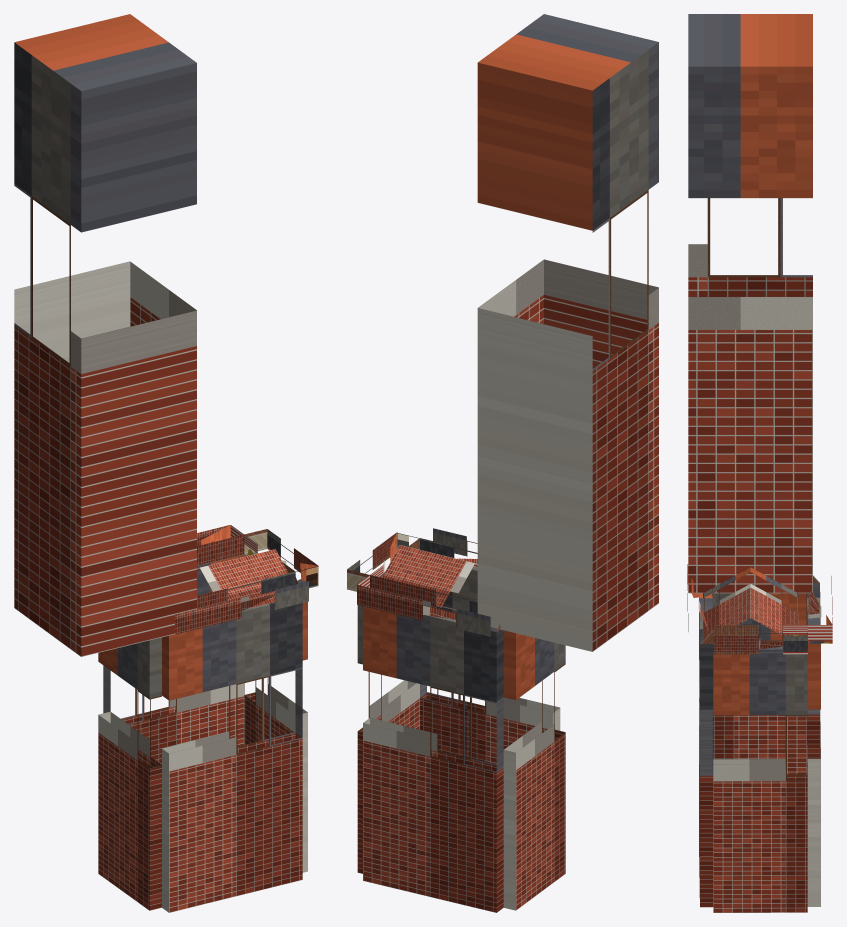
The picture shows the model from 3 angles, left to right: view 1: azimuth 30°, elevation 25°; view 2: azimuth 150°, elevation 25°; view 3: azimuth 270°, elevation 25°; orthographic projection. The views are drawn at different scales.
Visible parts, largest first — view 1: 1106965484__chimney_0_xb, 1106965484__wall_0_xb, 1106965484__wall_1_xb, 1106965484__wall_2_xb, 1106965484__wall_3_xb, 1106965484__cornice_0, 1106965484_roof_-1_xb, 1106965484__cornice_2, 1106965484__cornice_3; view 2: 1106965484__chimney_0_xb, 1106965484__wall_2_xb, 1106965484__wall_1_xb, 1106965484__wall_0_xb, 1106965484__cornice_2, 1106965484__wall_3_xb, 1106965484_roof_1_xb, 1106965484__cornice_3, 1106965484__cornice_0; view 3: 1106965484__chimney_0_xb, 1106965484__wall_3_xb, 1106965484__wall_1_xb, 1106965484__wall_0_xb, 1106965484__wall_2_xb, 1106965484__cornice_3, 1106965484_roof_1_xb, 1106965484_roof_-1_xb, 1106965484__cornice_2, 1106965484__wall_0_xf, 1106965484__cornice_0.
Part boxes in pixels (box(x1,y1,x2,y2)): 1106965484__chimney_0_xb: box(14, 14, 196, 656); 1106965484__wall_0_xb: box(162, 602, 302, 912); 1106965484__wall_1_xb: box(98, 637, 161, 910); 1106965484__wall_2_xb: box(103, 555, 244, 764); 1106965484__wall_3_xb: box(244, 552, 307, 872); 1106965484__cornice_0: box(175, 571, 308, 634); 1106965484_roof_-1_xb: box(200, 549, 288, 608); 1106965484__cornice_2: box(197, 525, 244, 566); 1106965484__cornice_3: box(244, 529, 318, 588); 1106965484__chimney_0_xb: box(477, 14, 658, 651); 1106965484__wall_2_xb: box(363, 606, 503, 912); 1106965484__wall_1_xb: box(503, 630, 565, 910); 1106965484__wall_0_xb: box(420, 566, 560, 764); 1106965484__cornice_2: box(357, 575, 500, 636); 1106965484__wall_3_xb: box(357, 572, 419, 873); 1106965484_roof_1_xb: box(382, 545, 477, 610); 1106965484__cornice_3: box(347, 532, 419, 591); 1106965484__cornice_0: box(420, 528, 477, 571); 1106965484__chimney_0_xb: box(688, 14, 812, 593); 1106965484__wall_3_xb: box(713, 646, 807, 912); 1106965484__wall_1_xb: box(712, 593, 806, 774); 1106965484__wall_0_xb: box(699, 593, 713, 907); 1106965484__wall_2_xb: box(806, 582, 820, 906); 1106965484__cornice_3: box(713, 625, 807, 654); 1106965484_roof_1_xb: box(750, 567, 798, 635); 1106965484_roof_-1_xb: box(703, 567, 750, 640); 1106965484__cornice_2: box(807, 575, 832, 643); 1106965484__wall_0_xf: box(699, 701, 712, 773); 1106965484__cornice_0: box(687, 564, 713, 643).
Bounding box in the file's own units: 0.3248 × 1.05 × 0.175.
1 material, 1 textured.
